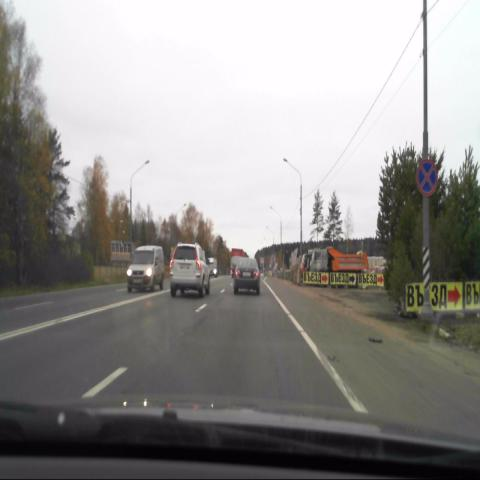3_27: (416, 158, 438, 201)
